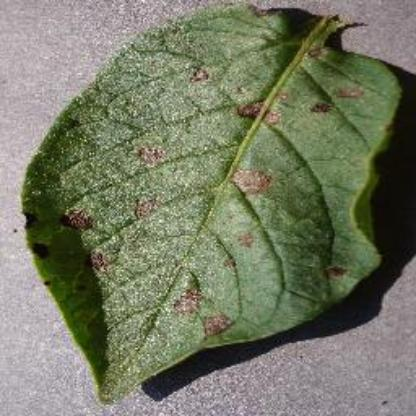Early-Blight: (23, 3, 404, 402)
